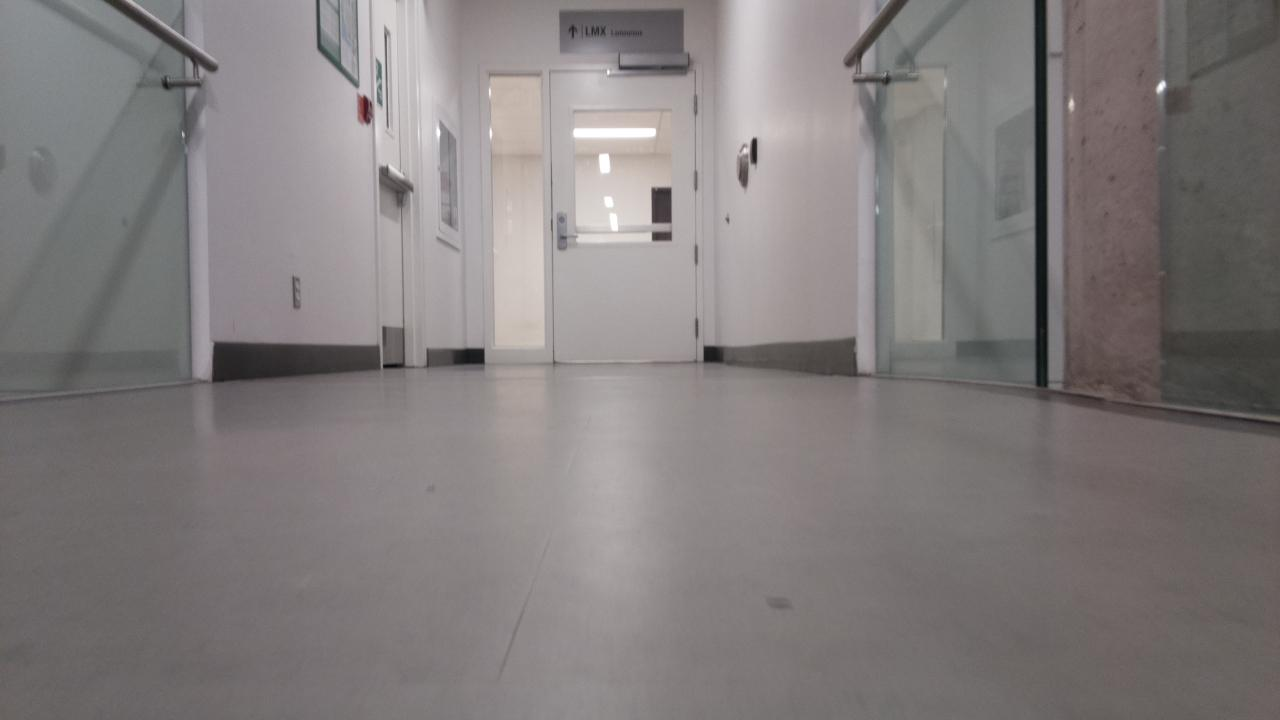door: (551, 70, 695, 360)
